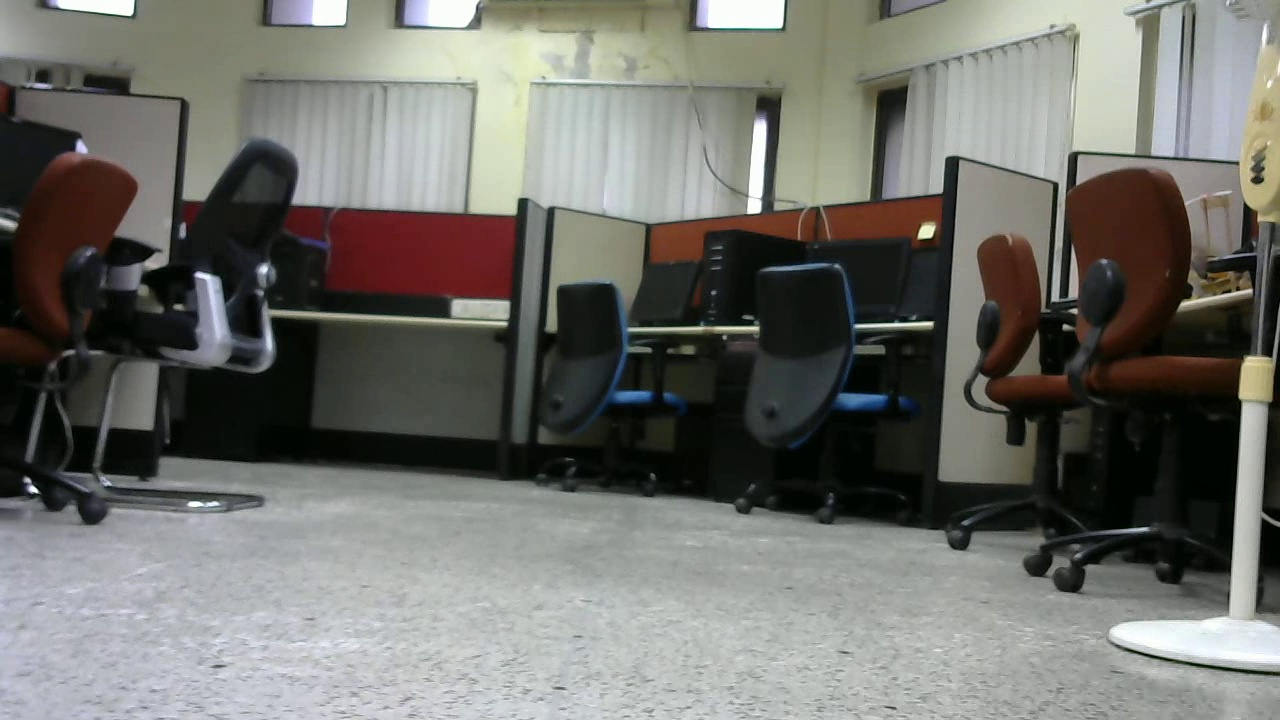chair: (1049, 168, 1236, 591), (143, 135, 301, 510), (5, 155, 143, 526), (727, 261, 915, 518), (951, 233, 1097, 554), (528, 283, 693, 492)
